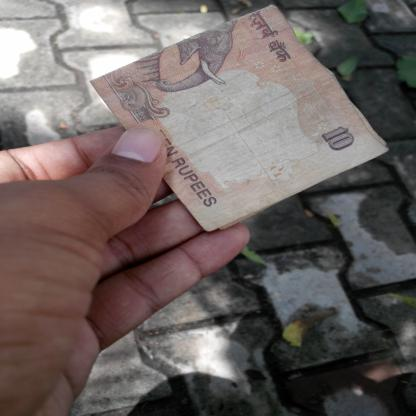Old10Back: (87, 3, 392, 235)
